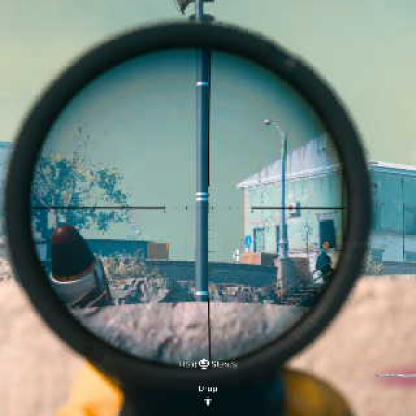enemy: (312, 250, 334, 284)
